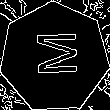M_W: (29, 33, 80, 81)
